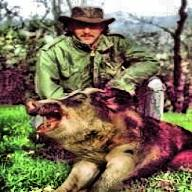boar: (21, 86, 192, 192)
